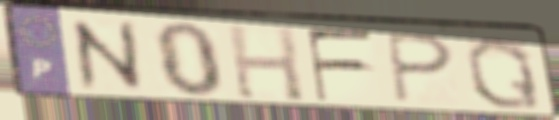0: (147, 19, 230, 100)
F: (302, 27, 377, 104)
H: (224, 22, 309, 105)
N: (64, 17, 151, 94)
P: (382, 30, 458, 105)
Q: (462, 34, 546, 112)
